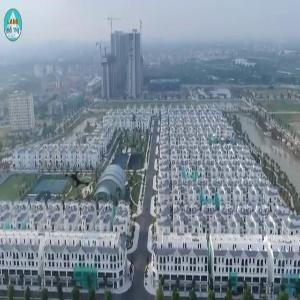drone: (54, 156, 101, 203)
